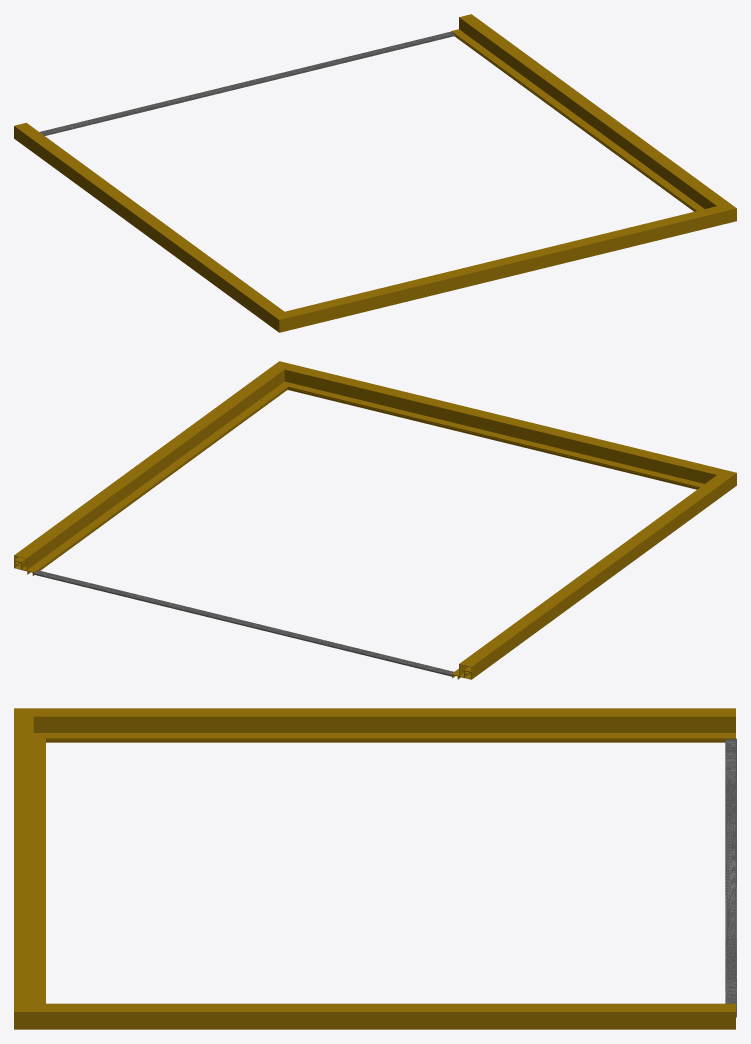
The picture shows the model from 3 angles, top to bottom: view 1: azimuth 30°, elevation 25°; view 2: azimuth 150°, elevation 25°; view 3: azimuth 270°, elevation 25°; orthographic projection. The views are drawn at different scales.
Visible parts, largest first — view 1: TUBE_1_RIGHT, TUBE_1_FRONT, TUBE_1_LEFT, BACK_TOP_COVER_FOR_ADDONS, TUBE_1_CORNER_FRONT_LEFT, TUBE_1_CORNER_FRONT_RIGHT; view 2: TUBE_1_FRONT, TUBE_1_RIGHT, TUBE_1_LEFT, BACK_TOP_COVER_FOR_ADDONS, TUBE_1_CORNER_FRONT_RIGHT, TUBE_1_CORNER_FRONT_LEFT; view 3: TUBE_1_LEFT, TUBE_1_RIGHT, TUBE_1_FRONT, BACK_TOP_COVER_FOR_ADDONS, TUBE_1_CORNER_FRONT_LEFT, TUBE_1_CORNER_FRONT_RIGHT.
Part boxes in pixels (x1,y1,x2,y2): TUBE_1_RIGHT: (451,14,709,208); TUBE_1_FRONT: (319,214,690,321); TUBE_1_LEFT: (14,123,264,312); BACK_TOP_COVER_FOR_ADDONS: (39,31,455,135); TUBE_1_CORNER_FRONT_LEFT: (252,297,325,332); TUBE_1_CORNER_FRONT_RIGHT: (684,189,736,232); TUBE_1_FRONT: (314,372,690,485); TUBE_1_RIGHT: (14,380,272,575); TUBE_1_LEFT: (451,489,710,679); BACK_TOP_COVER_FOR_ADDONS: (33,570,453,676); TUBE_1_CORNER_FRONT_RIGHT: (253,361,325,400); TUBE_1_CORNER_FRONT_LEFT: (679,461,736,504); TUBE_1_LEFT: (86,708,735,742); TUBE_1_RIGHT: (86,1003,735,1029); TUBE_1_FRONT: (14,739,45,997); BACK_TOP_COVER_FOR_ADDONS: (725,738,736,1017); TUBE_1_CORNER_FRONT_LEFT: (14,708,86,755); TUBE_1_CORNER_FRONT_RIGHT: (14,981,86,1029).
Bounding box in the file's own units: 59.25 × 59.61 × 1.96.
